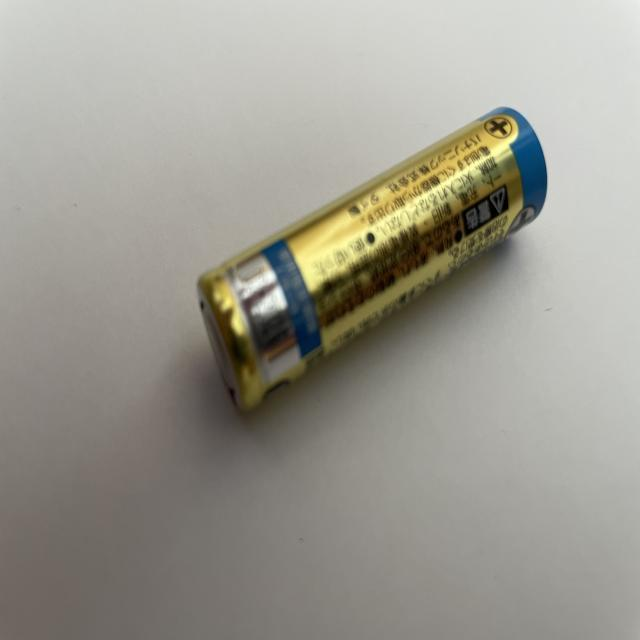Hazard: (196, 103, 548, 413)
